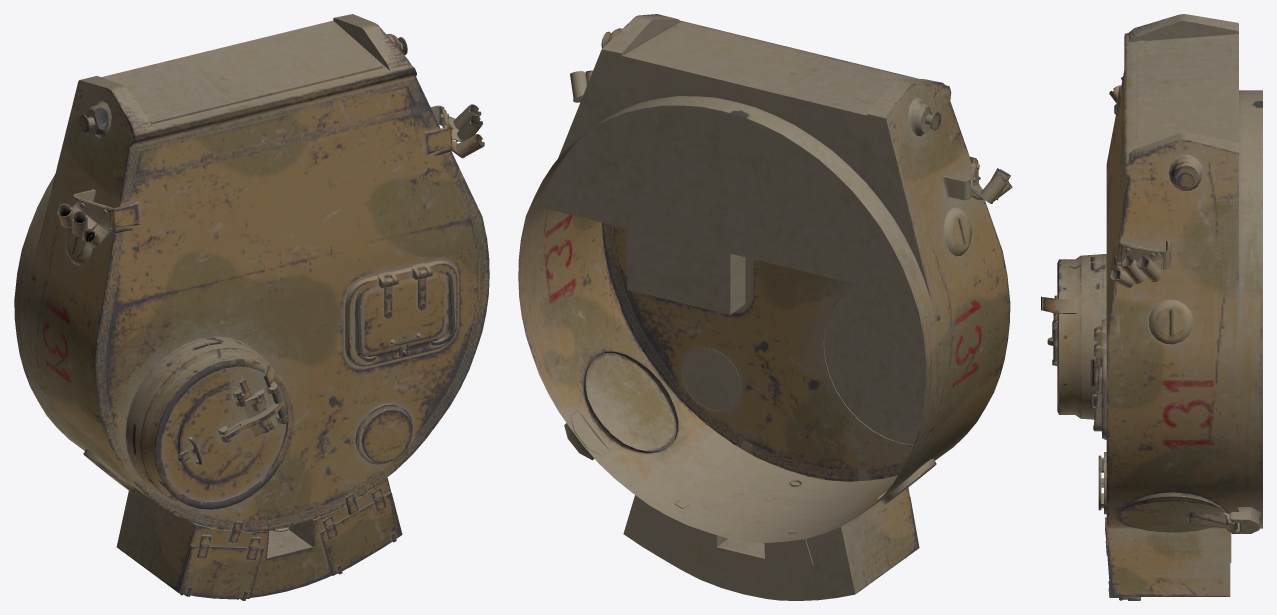
The model's file is Turret_01.glb.
The picture shows the model from 3 angles, left to right: view 1: azimuth 30°, elevation 25°; view 2: azimuth 150°, elevation 25°; view 3: azimuth 270°, elevation 25°; orthographic projection. The views are drawn at different scales.
Parts seen in each view (by area): view 1: set_0_group_0; view 2: set_0_group_0; view 3: set_0_group_0.
Boxes of the visible parts, left/top/right/bottom form: set_0_group_0: left=14, top=14, right=489, bottom=600; set_0_group_0: left=518, top=14, right=1012, bottom=600; set_0_group_0: left=1041, top=14, right=1262, bottom=600.
Size of the model in its own units: 2.56 by 2.95 by 1.2.
1 material, 1 textured.
